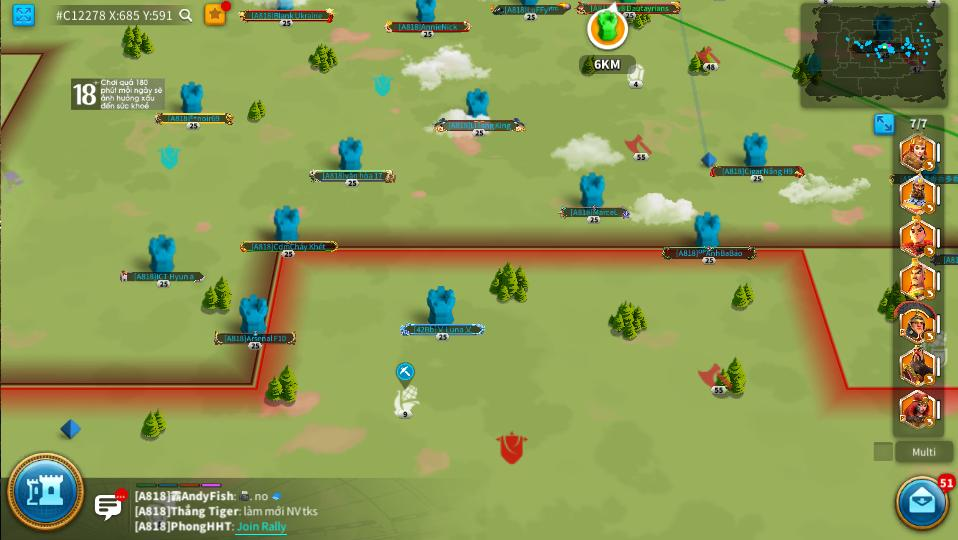gem-z-out: (626, 65, 644, 84)
march_returning: (924, 288, 935, 300), (924, 374, 936, 385), (924, 160, 935, 171), (924, 202, 935, 213), (925, 245, 935, 256), (925, 332, 935, 342), (925, 417, 935, 427)
